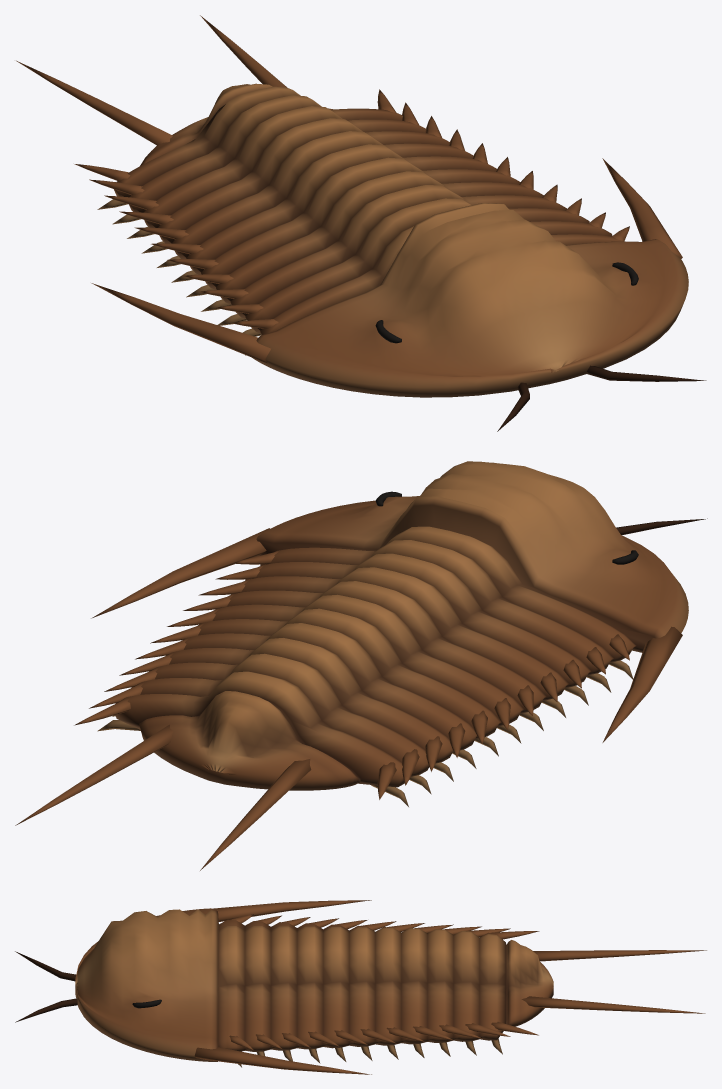
The model's file is CeraurusPleurexanthemus.fbx.
The picture shows the model from 3 angles, top to bottom: view 1: azimuth 30°, elevation 25°; view 2: azimuth 150°, elevation 25°; view 3: azimuth 270°, elevation 25°; orthographic projection. The views are drawn at different scales.
Visible parts, largest first — view 1: CeraurusPleurexanthemus; view 2: CeraurusPleurexanthemus; view 3: CeraurusPleurexanthemus.
Boxes of the visible parts, <box> form: CeraurusPleurexanthemus: <box>16,15,706,431</box>; CeraurusPleurexanthemus: <box>15,461,707,870</box>; CeraurusPleurexanthemus: <box>15,900,706,1074</box>.
Bounding box in the file's own units: 1.21 × 0.2607 × 2.03.
